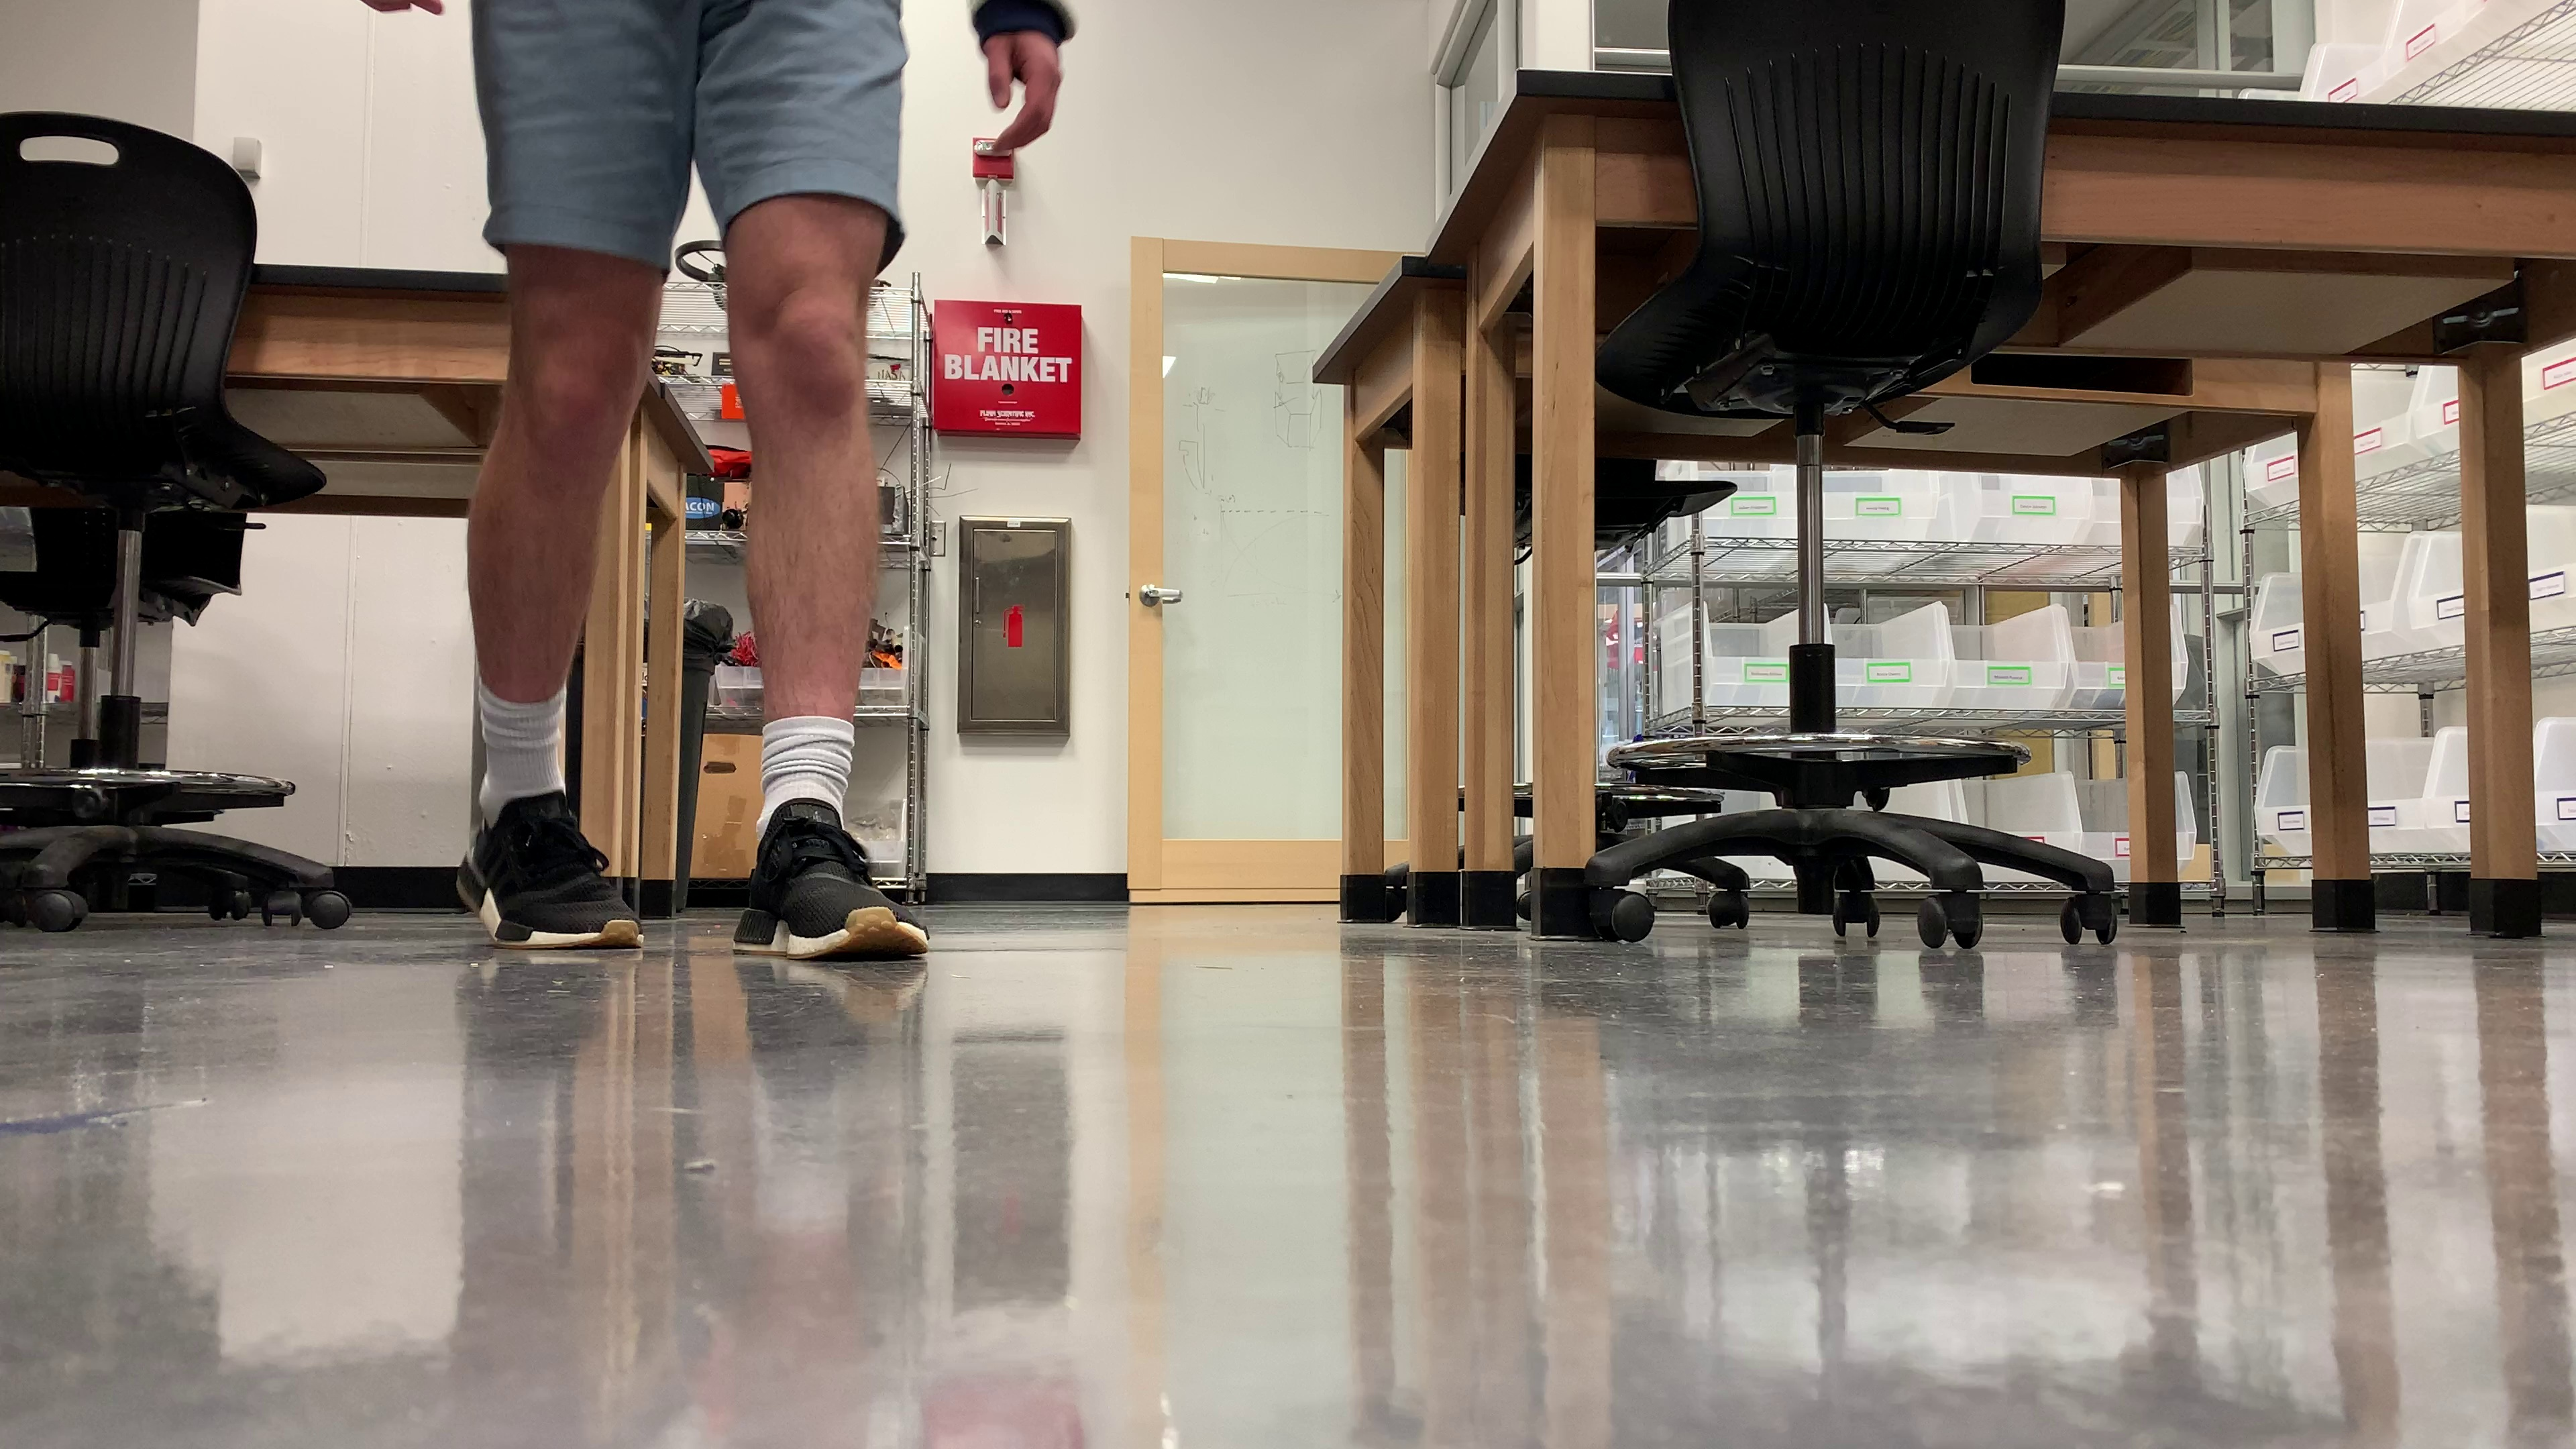shoe: (453, 791, 644, 950), (734, 800, 927, 957)
